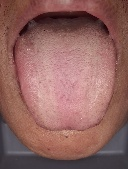tongue: (12, 33, 120, 134)
